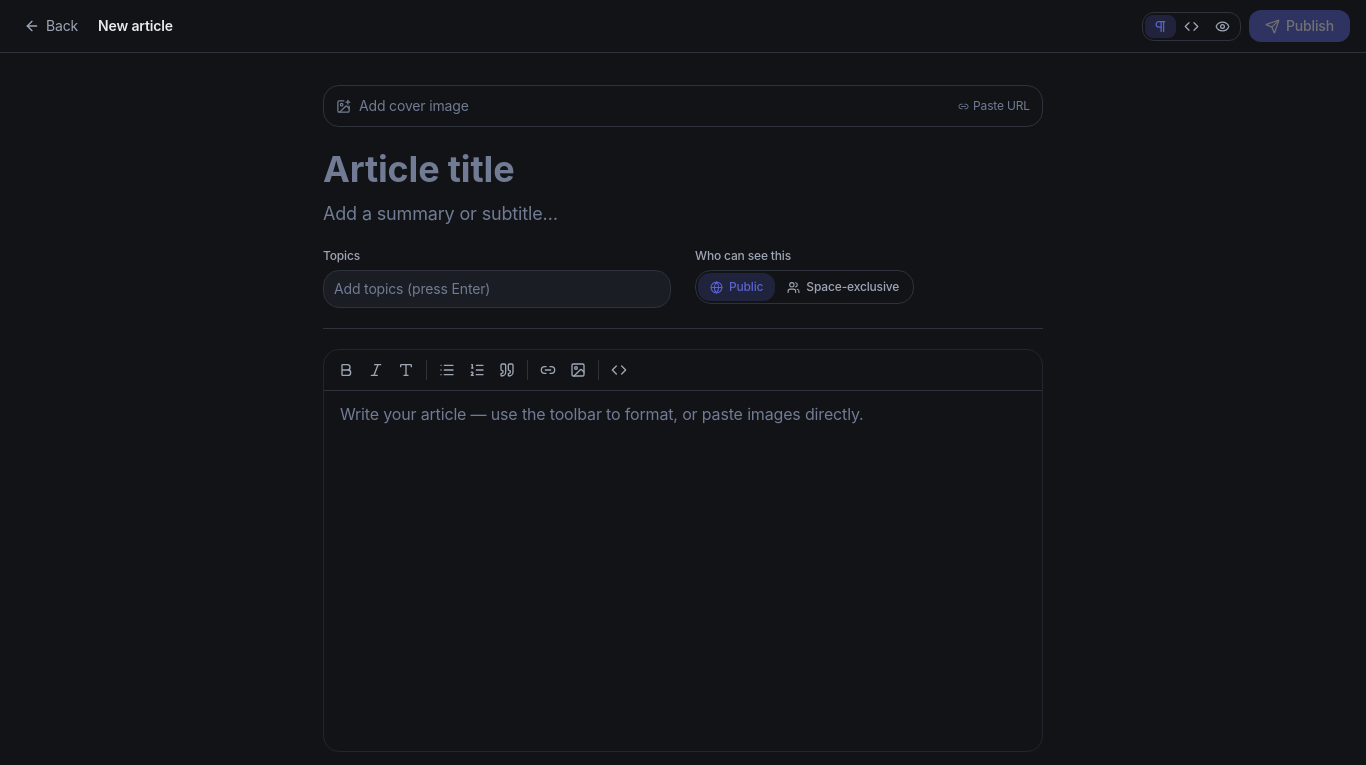
it: ArticleEditor — publishing › BLOCKS a space-exclusive publish when no space is selected (leak guard)
Type "My Title" into the field with placeholder "Article title" at (683, 170), box 323,147 -> 1043,192
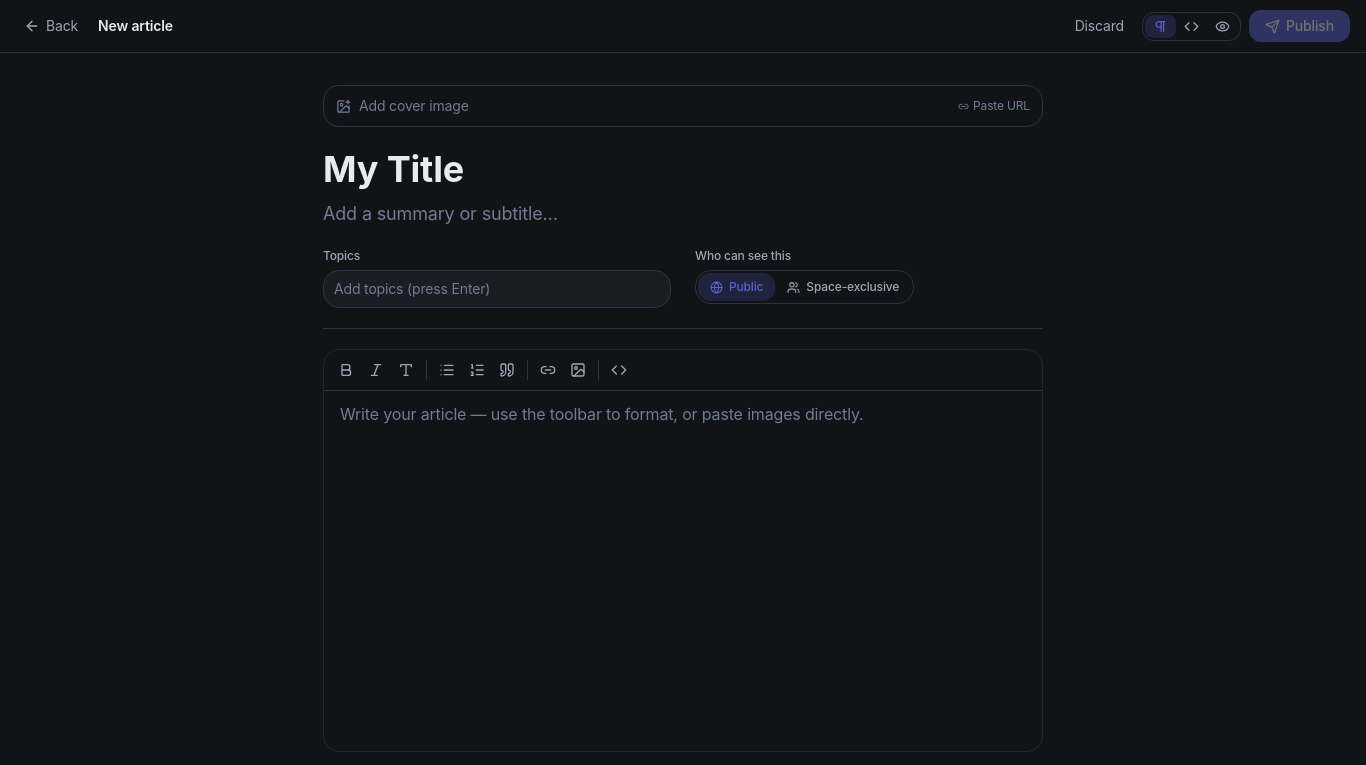
Click the button titled "Markdown" at (1192, 26), box 1176,14 -> 1207,38
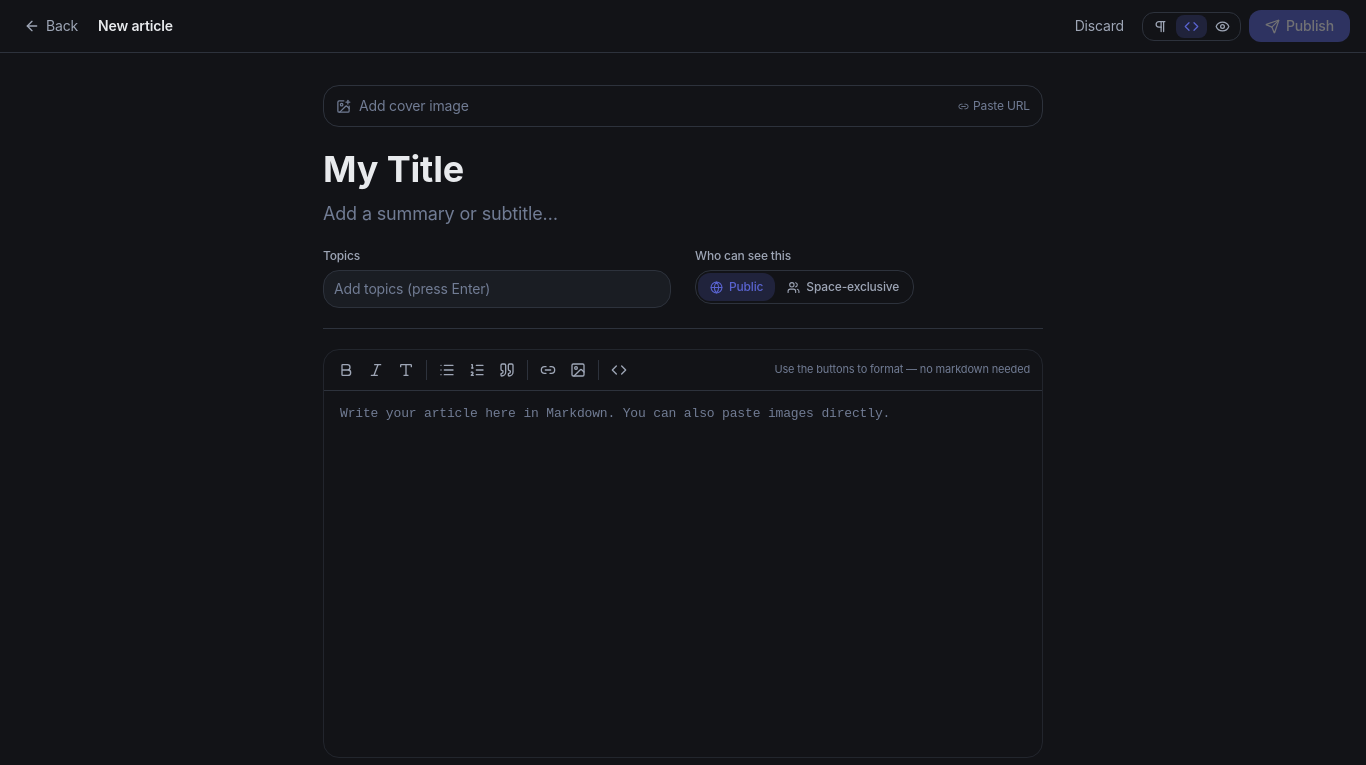
Replace the text in the text box with placeholder "Write your article here" with "Hello body" at (683, 571), box 324,391 -> 1042,751
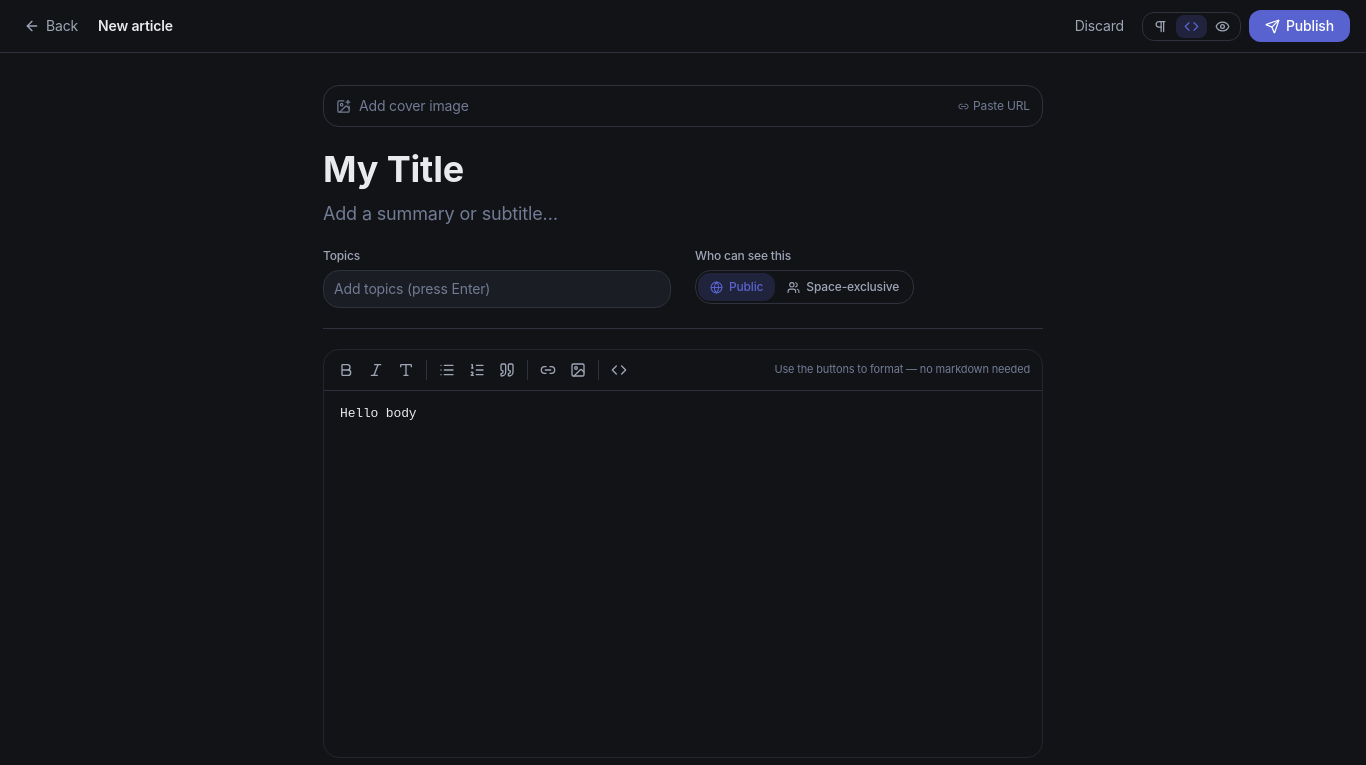
Click the button "Space-exclusive" at (843, 287), box 775,273 -> 911,301
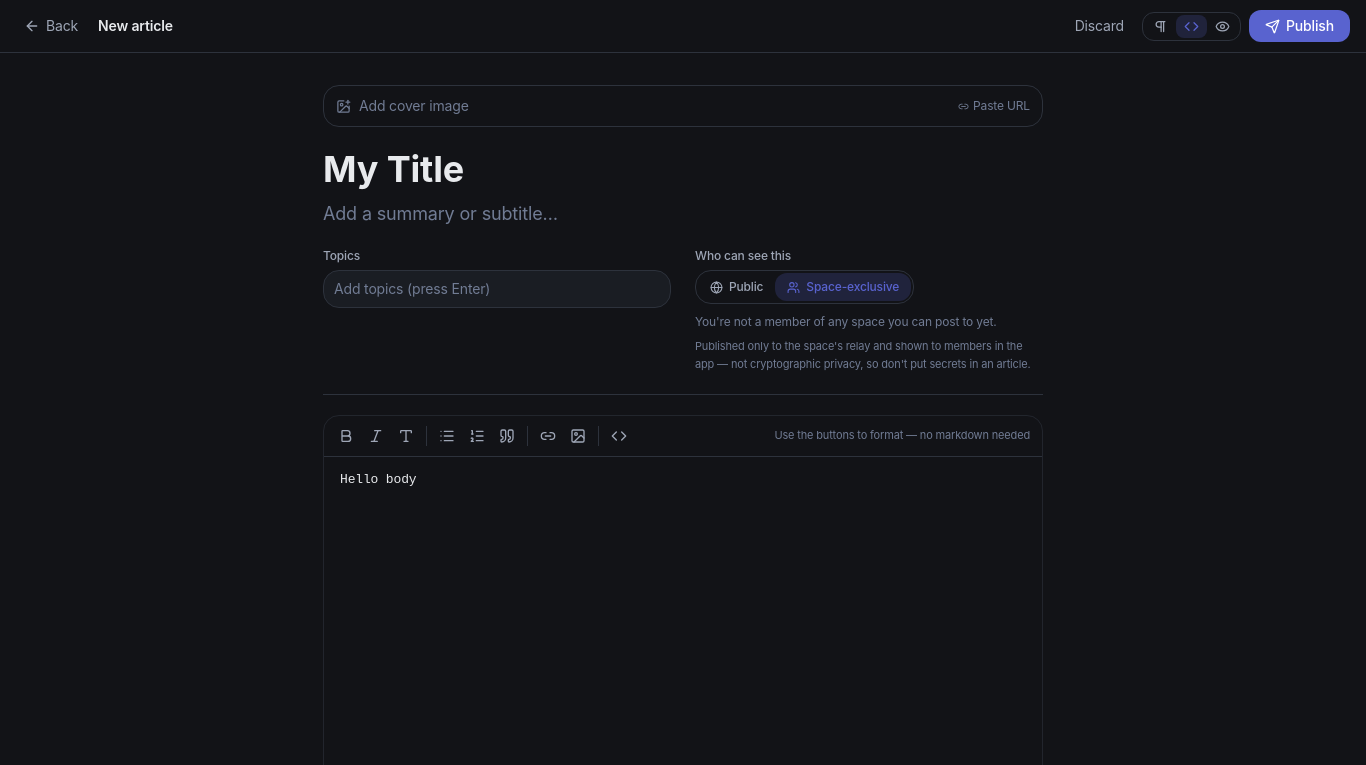
Click the button "Publish" at (1300, 26), box 1249,10 -> 1350,42
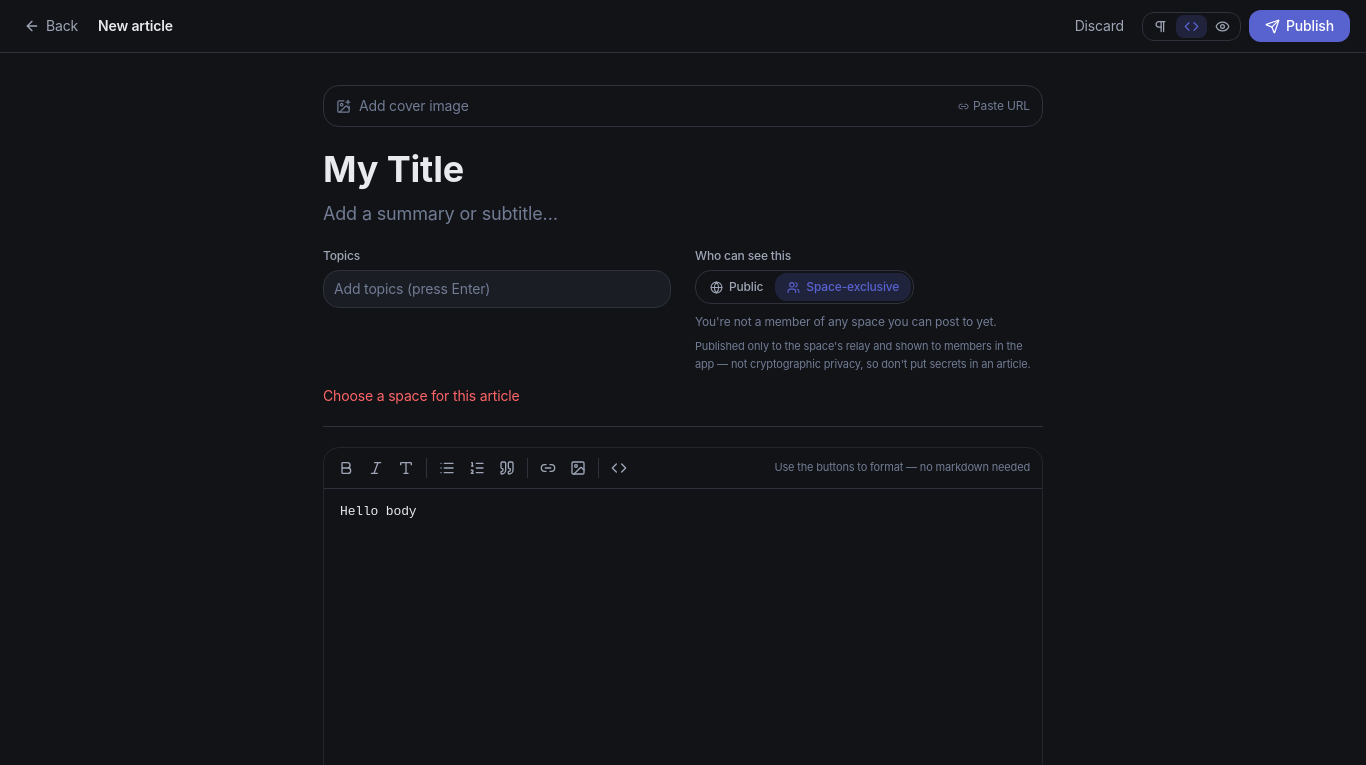
Expected: the text "Choose a space for this article" is shown, 323,387 -> 520,404
